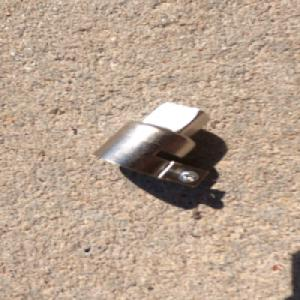MetalPart: (90, 101, 212, 189)
